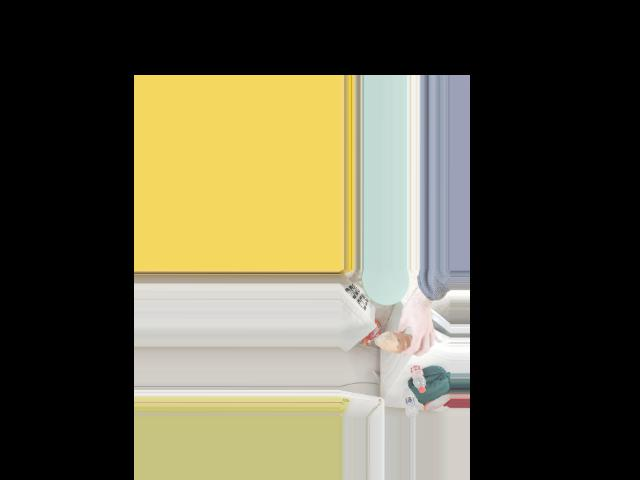sweet_potato: (386, 327, 418, 351)
